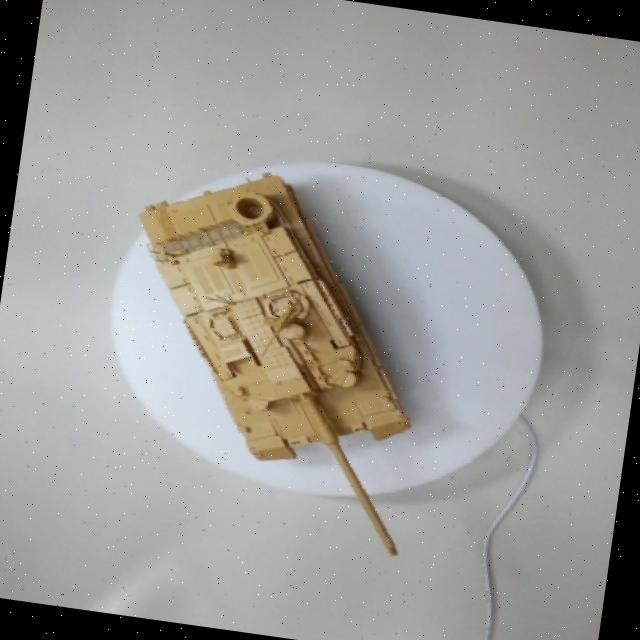korea tank: (92, 109, 464, 572)
